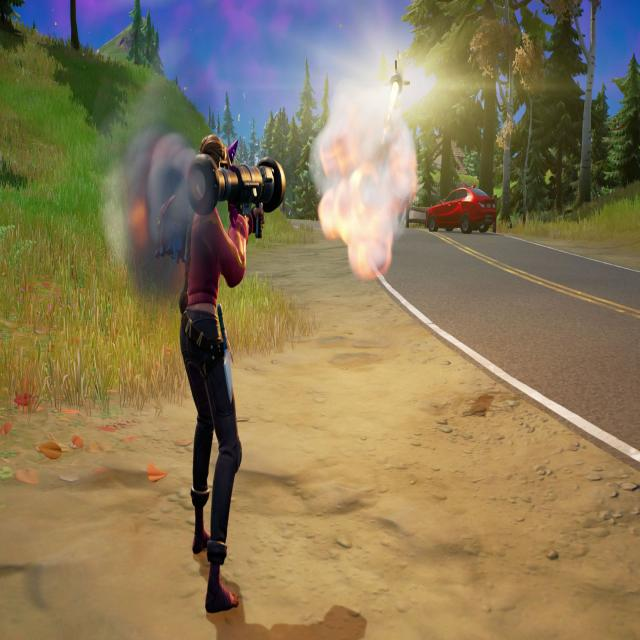bazooka: (182, 146, 305, 256)
